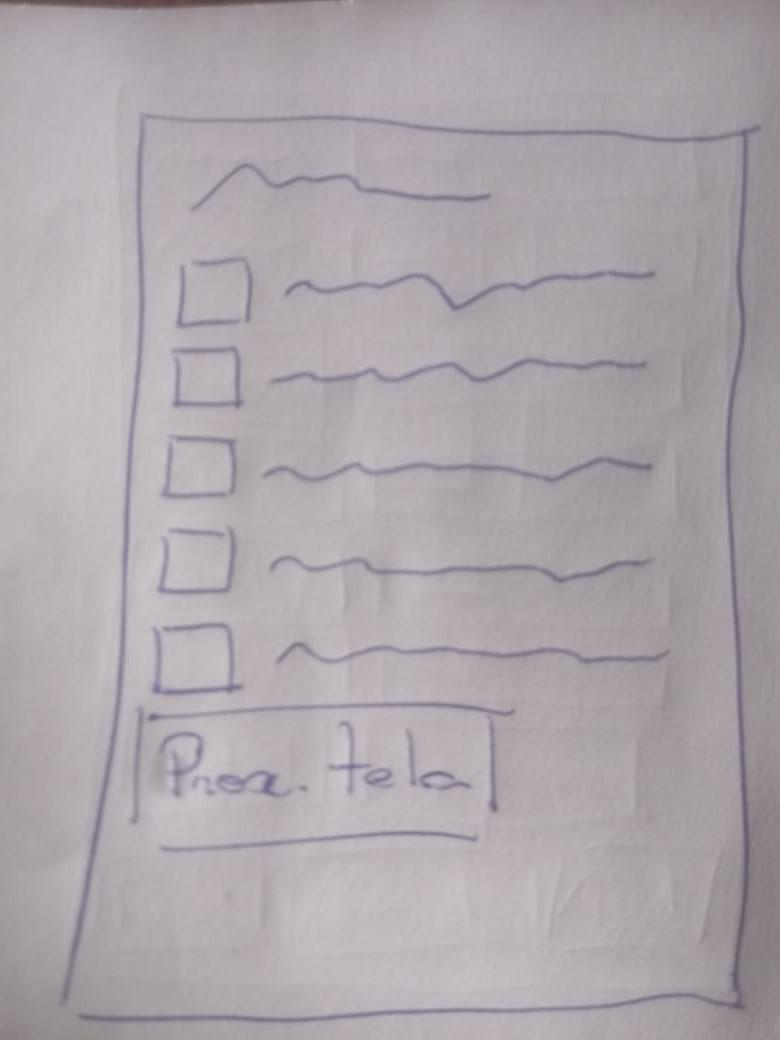Button: (133, 700, 499, 851)
CheckBox: (151, 621, 672, 695), (174, 255, 655, 329), (156, 525, 654, 596), (163, 432, 654, 500), (171, 346, 646, 408)
Label: (192, 164, 493, 216)
Screen: (61, 111, 750, 1021)
